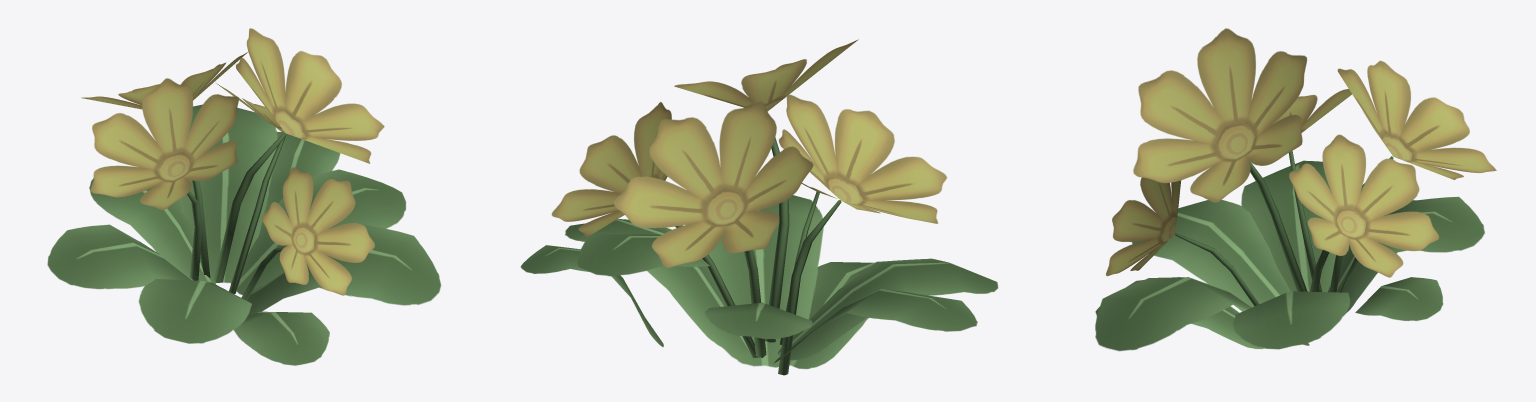
The model's file is FlowerBush3.glb.
The picture shows the model from 3 angles, left to right: view 1: azimuth 30°, elevation 25°; view 2: azimuth 150°, elevation 25°; view 3: azimuth 270°, elevation 25°; orthographic projection. The views are drawn at different scales.
Visible parts, largest first — view 1: Plant_Flowers; view 2: Plant_Flowers; view 3: Plant_Flowers.
Boxes of the visible parts, x1,y1,x2,y2 form: Plant_Flowers: (47, 28, 441, 365); Plant_Flowers: (520, 39, 998, 375); Plant_Flowers: (1095, 28, 1496, 351).
Size of the model in its own units: 1.48 by 1.18 by 1.53.
Materials: 1 (1 with a texture image).
